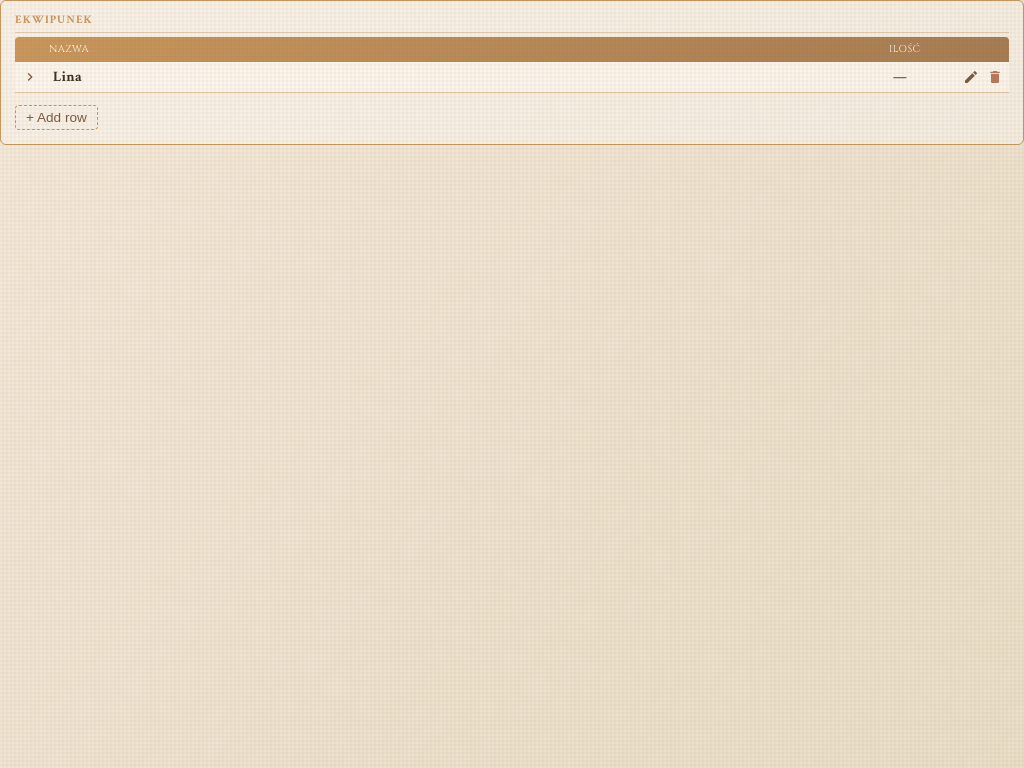
it: data_table — details panel › opens the panel as a textarea while editing, and restores the closed state after
The width and height of the screenshot is (1024, 768).
Click the button with class "custom-sheet__row-table-edit" at [971, 77], box 961,67 -> 981,87
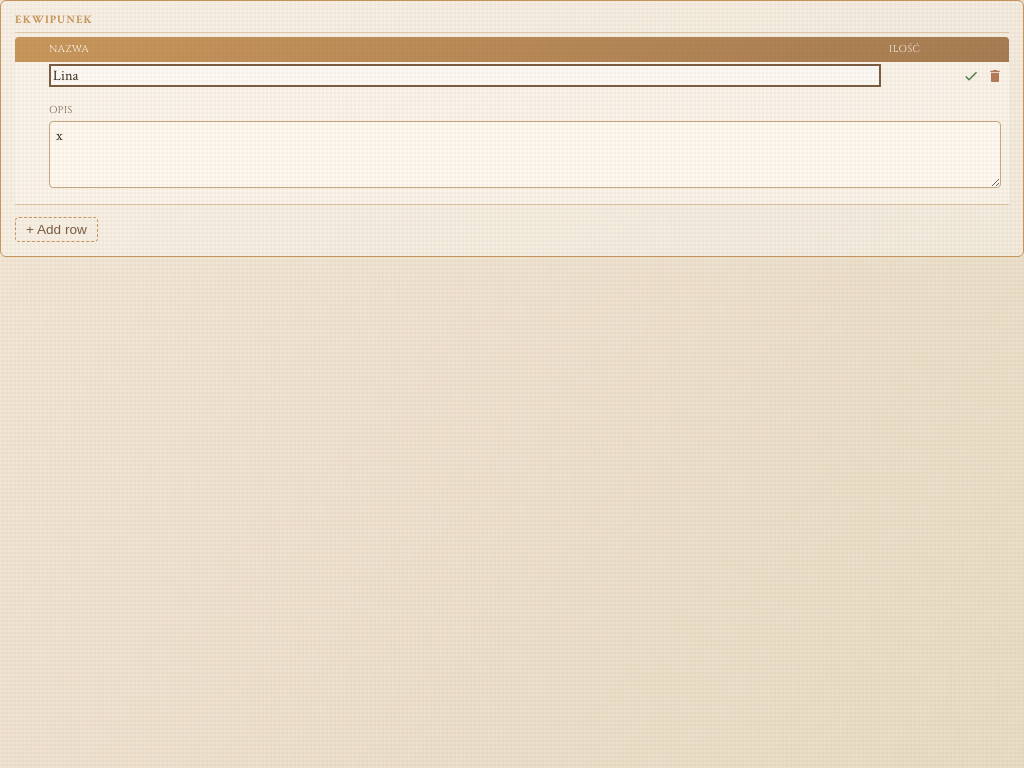
Expected: the text box with class "custom-sheet__row-table-detail-input" holds "x", 49,121 -> 1001,188
Click the button with class "custom-sheet__row-table-edit" at [971, 76], box 961,66 -> 981,86
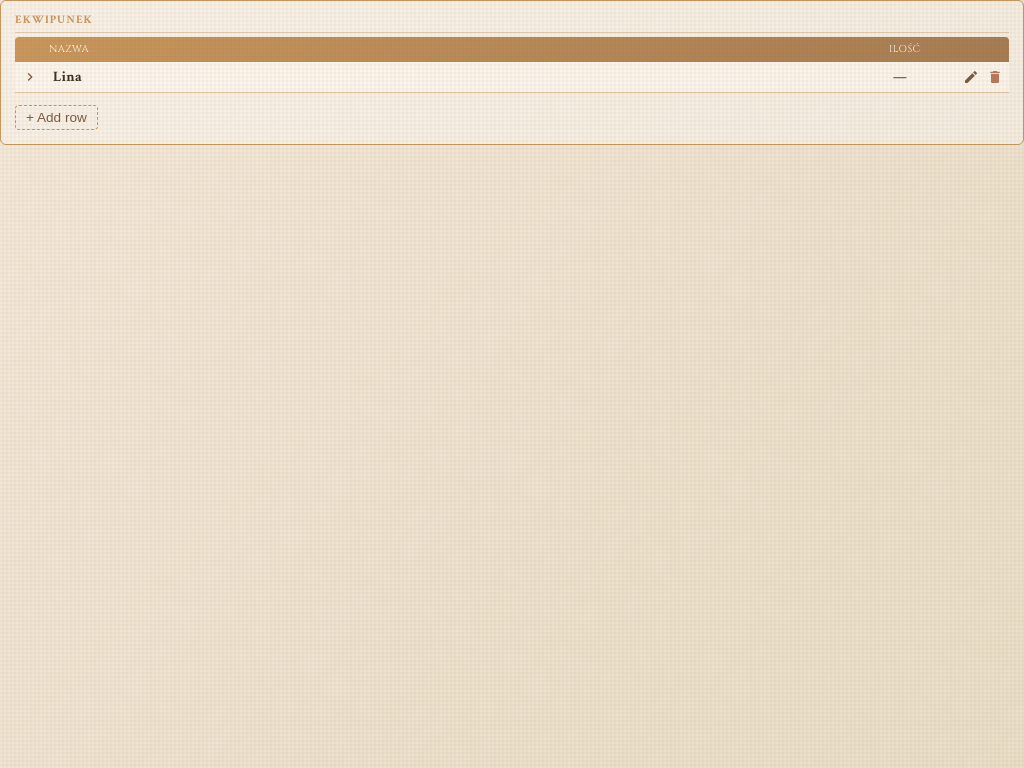
Expected: the element with class "custom-sheet__row-table-details" is gone
